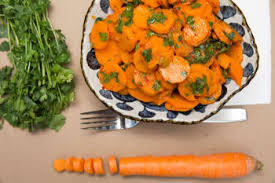carrot: (106, 151, 263, 180)
